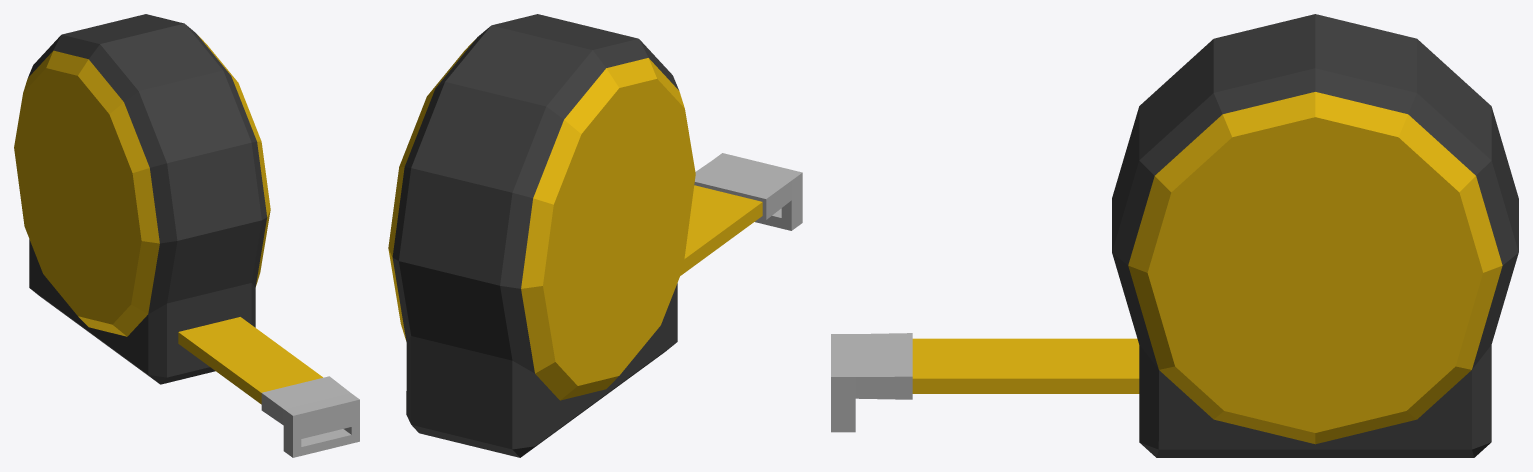
The model's file is Tape Measure.glb.
The picture shows the model from 3 angles, left to right: view 1: azimuth 30°, elevation 25°; view 2: azimuth 150°, elevation 25°; view 3: azimuth 270°, elevation 25°; orthographic projection. The views are drawn at different scales.
Visible parts, largest first — view 1: Tape Measure; view 2: Tape Measure; view 3: Tape Measure.
Boxes of the visible parts, left/top/right/bottom form: Tape Measure: left=14, top=14, right=359, bottom=457; Tape Measure: left=388, top=14, right=802, bottom=457; Tape Measure: left=831, top=14, right=1518, bottom=457.
Bounding box in the file's own units: 9.1 × 19.97 × 31.93.
